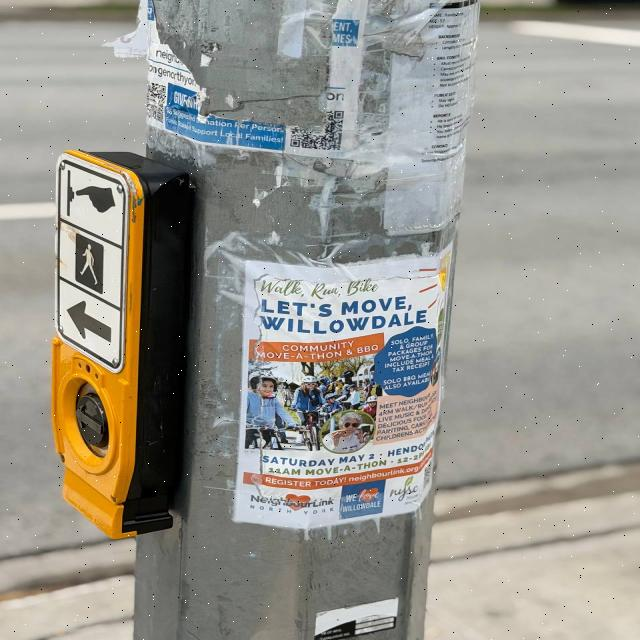Electrical Pole: (41, 0, 486, 640)
